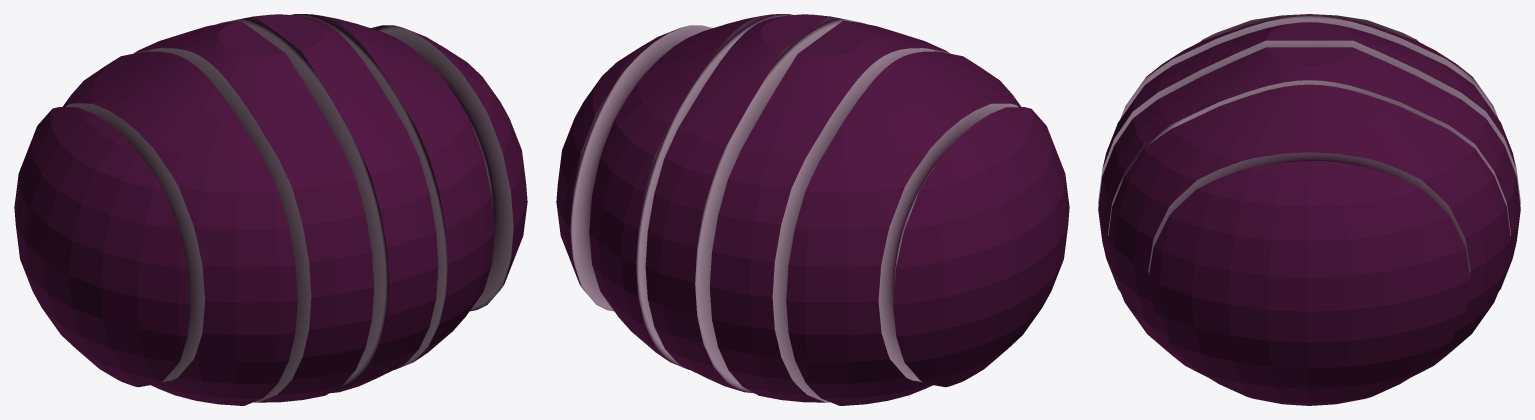
The model's file is onion_cut.glb.
3 renders of one model, left to right at view 1: azimuth 30°, elevation 25°; view 2: azimuth 150°, elevation 25°; view 3: azimuth 270°, elevation 25°, orthographic. The views are drawn at different scales.
Visible parts, largest first — view 1: onion-cut-3-rigid, onion-cut-2-rigid, onion-cut-4-rigid, onion-cut-5-rigid, onion-cut-6-rigid, onion-cut-1-rigid; view 2: onion-cut-3-rigid, onion-cut-2-rigid, onion-cut-4-rigid, onion-cut-5-rigid, onion-cut-6-rigid, onion-cut-1-rigid; view 3: onion-cut-1-rigid, onion-cut-6-rigid, onion-cut-5-rigid, onion-cut-4-rigid, onion-cut-3-rigid, onion-cut-2-rigid.
Boxes of the visible parts, x1,y1,x2,y2 form: onion-cut-3-rigid: (62,51,297,405); onion-cut-2-rigid: (14,107,190,387); onion-cut-4-rigid: (133,20,373,402); onion-cut-5-rigid: (217,14,438,393); onion-cut-6-rigid: (291,14,494,369); onion-cut-1-rigid: (371,25,527,311); onion-cut-3-rigid: (786,51,1021,405); onion-cut-2-rigid: (893,107,1069,387); onion-cut-4-rigid: (710,20,950,402); onion-cut-5-rigid: (645,14,866,393); onion-cut-6-rigid: (589,14,792,369); onion-cut-1-rigid: (556,25,712,311); onion-cut-1-rigid: (1148,161,1470,405); onion-cut-6-rigid: (1108,84,1510,376); onion-cut-5-rigid: (1098,47,1520,290); onion-cut-4-rigid: (1098,22,1520,204); onion-cut-3-rigid: (1120,16,1498,119); onion-cut-2-rigid: (1200,14,1418,41).
Size of the model in its own units: 0.1381 by 0.0985 by 0.1163.
Materials: 3 (1 with a texture image).
